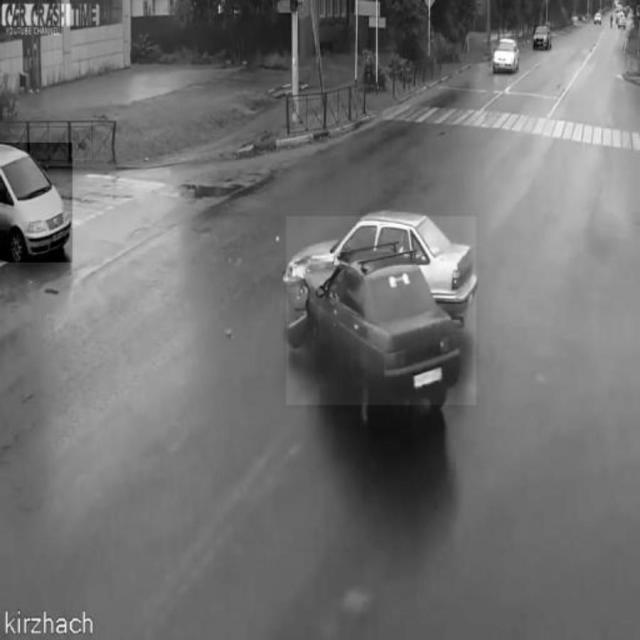accident: (286, 217, 476, 405)
vehicle: (1, 143, 73, 263), (491, 35, 517, 72), (534, 26, 549, 48)
